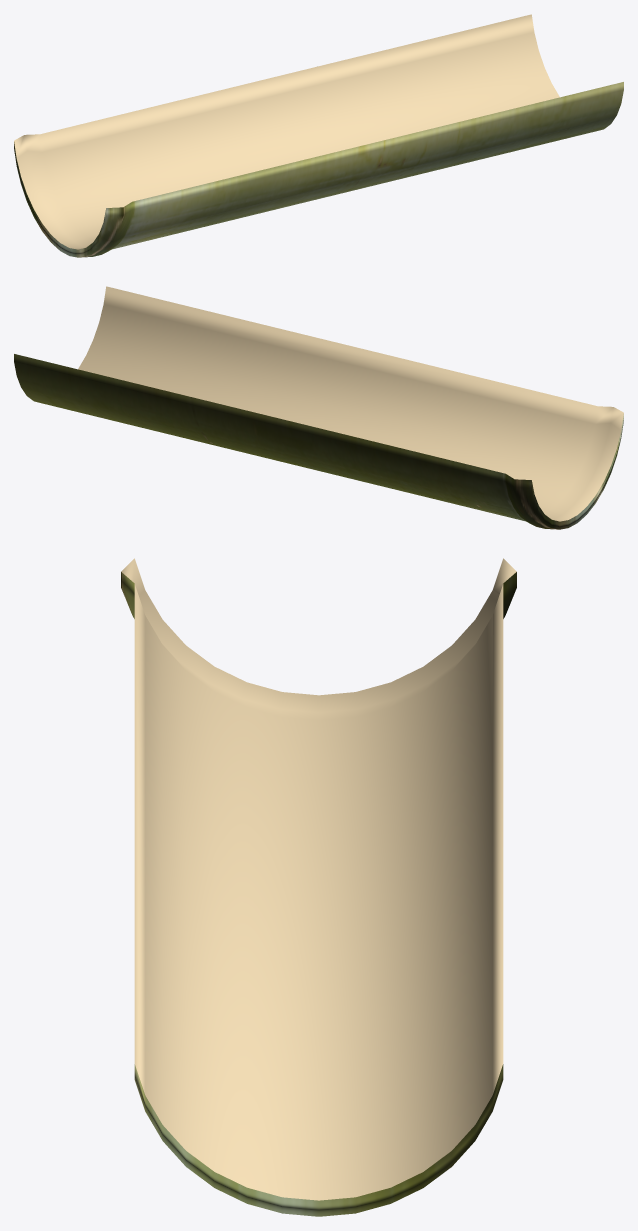
File: bamboo.gltf
The picture shows the model from 3 angles, top to bottom: view 1: azimuth 30°, elevation 25°; view 2: azimuth 150°, elevation 25°; view 3: azimuth 270°, elevation 25°; orthographic projection. The views are drawn at different scales.
Parts seen in each view (by area): view 1: 円柱; view 2: 円柱; view 3: 円柱.
Part boxes in pixels (bbox=[...]): 円柱: bbox=[14, 14, 623, 257]; 円柱: bbox=[14, 286, 623, 529]; 円柱: bbox=[121, 558, 516, 1216].
Bounding box in the file's own units: 6.36 × 0.9234 × 2.11.
Materials: 2 (1 with a texture image).
